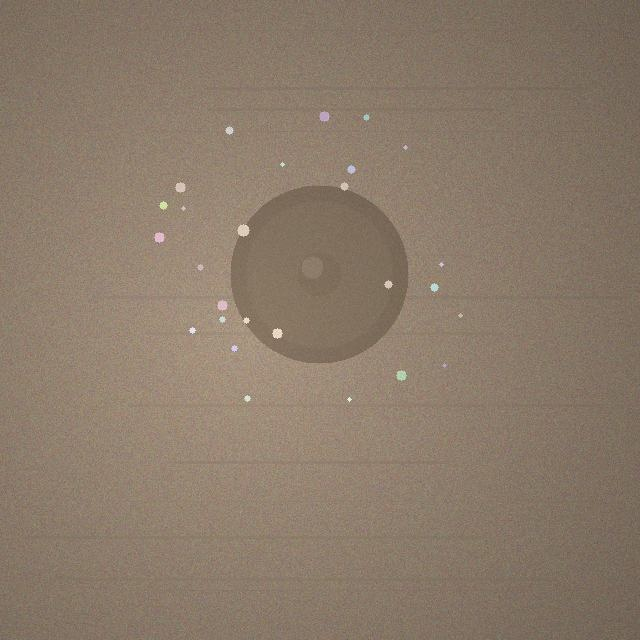overburn: (230, 185, 408, 363)
